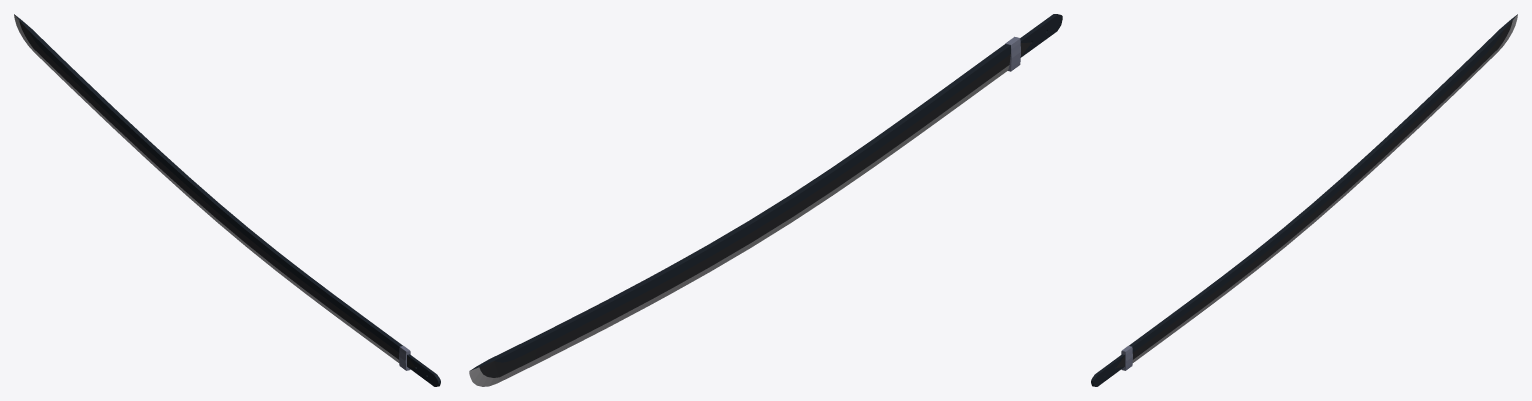
Rendered from blade_default.glb.
3 views of the same model, side by side, from view 1: azimuth 30°, elevation 25°; view 2: azimuth 150°, elevation 25°; view 3: azimuth 330°, elevation 25° (orthographic). The views are drawn at different scales.
Visible parts, largest first — view 1: Blade; view 2: Blade; view 3: Blade.
Boxes of the visible parts, x1=… form: Blade: x1=14, y1=14, x2=440, y2=386; Blade: x1=469, y1=14, x2=1062, y2=386; Blade: x1=1091, y1=14, x2=1517, y2=386.
Size of the model in its own units: 0.0197 by 0.2422 by 2.75.
